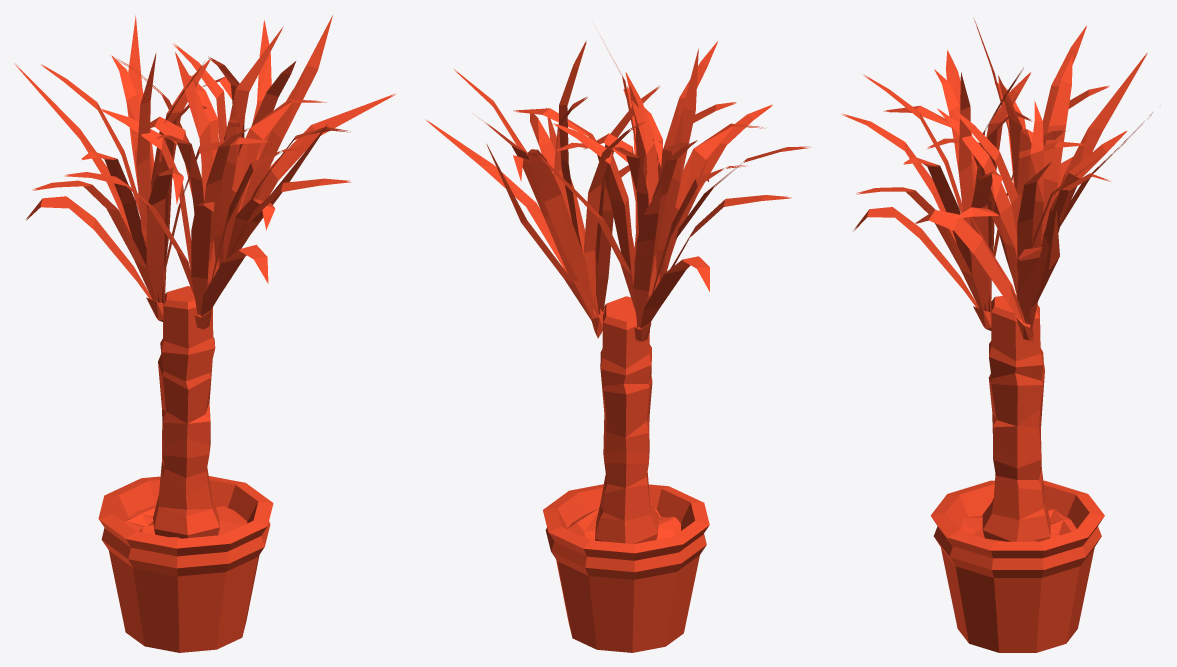
File: SM_Flowerpot_D_Filled.fbx
3 views of the same model, side by side, from view 1: azimuth 30°, elevation 25°; view 2: azimuth 150°, elevation 25°; view 3: azimuth 270°, elevation 25° (orthographic). The views are drawn at different scales.
Parts seen in each view (by area): view 1: SM_Flowerpot_D_Filled; view 2: SM_Flowerpot_D_Filled; view 3: SM_Flowerpot_D_Filled.
Boxes of the visible parts, x1,y1,x2,y2 form: SM_Flowerpot_D_Filled: (15, 15, 395, 652); SM_Flowerpot_D_Filled: (425, 28, 810, 652); SM_Flowerpot_D_Filled: (841, 19, 1152, 652).
Bounding box in the file's own units: 1.42 × 2.19 × 1.08.
